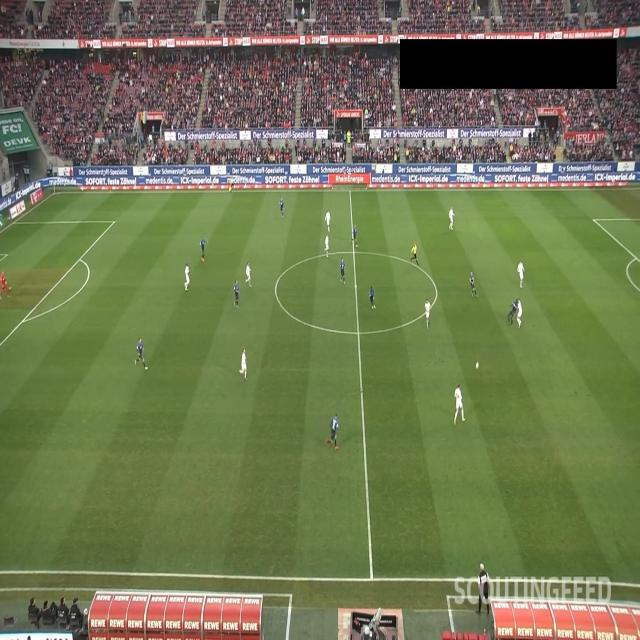ball: (475, 361, 479, 370)
